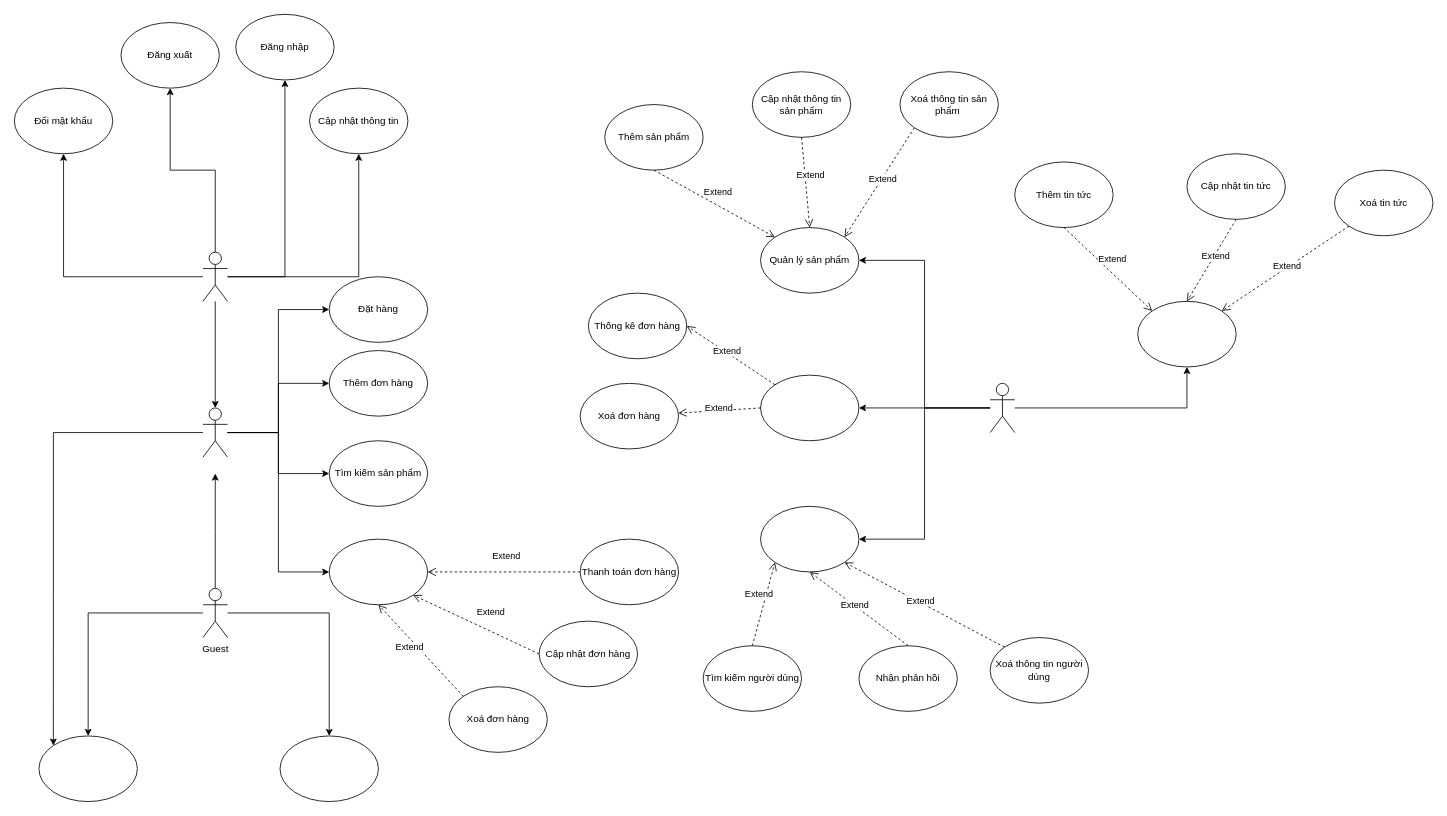
Image size: 1447x816. Some labels were removed from this diagram. Each missing label, with the box of its shape:
Admin: (989, 383, 1015, 433)
Khách hàng: (202, 407, 228, 457)
Kiểm tra đơn hàng: (328, 538, 428, 605)
Quản lý người dùng: (760, 506, 859, 572)
Quản lý đơn hàng: (760, 374, 859, 441)
User: (202, 251, 228, 301)
Xem thông tin sản phẩm: (38, 735, 137, 802)
Đăng ký: (279, 735, 378, 802)
Đăng tin: (1137, 301, 1236, 367)
